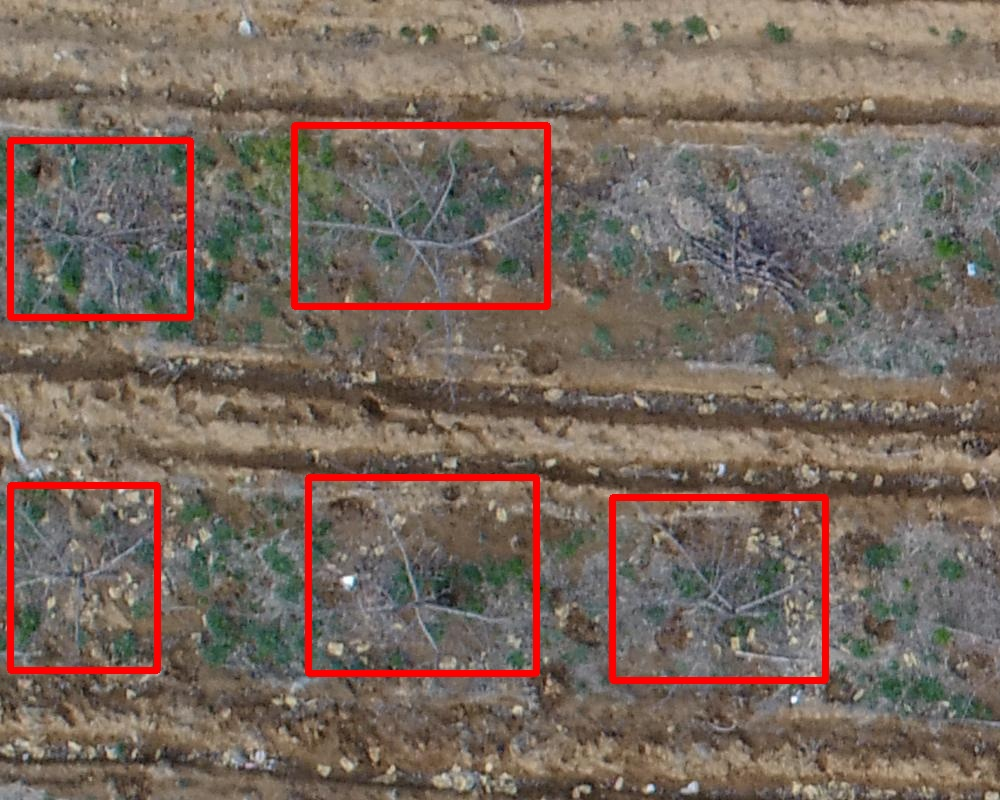apple: (294, 125, 547, 306), (308, 477, 536, 673), (612, 497, 825, 680), (10, 140, 190, 317), (10, 485, 157, 670)
